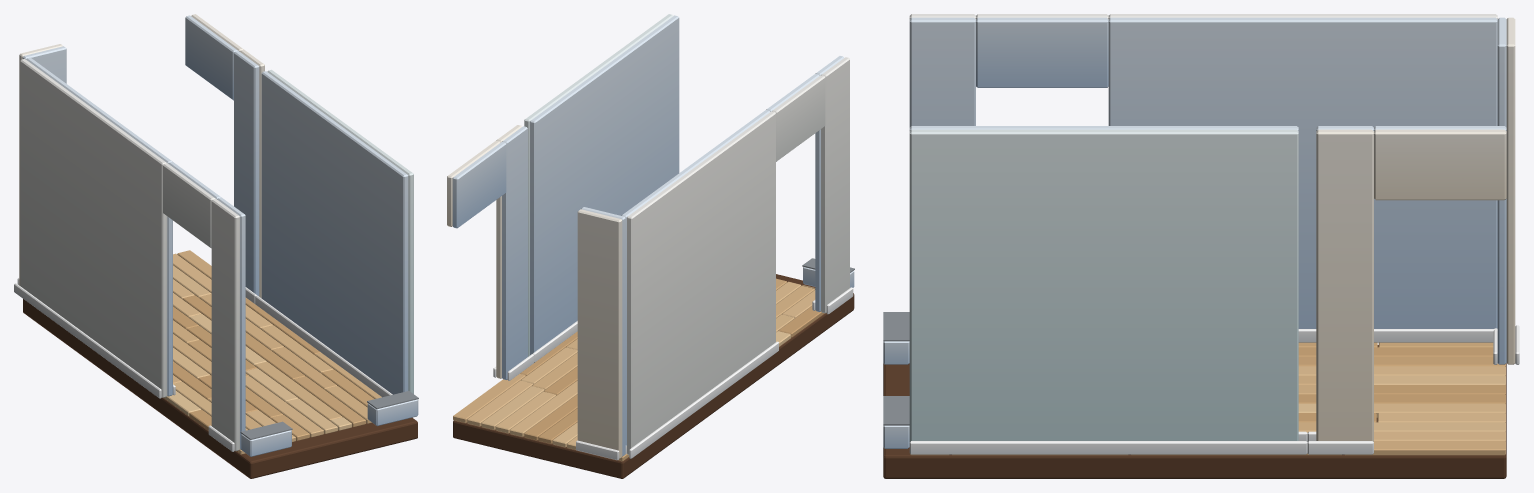
Rendered from house-hall.glb.
3 views of the same model, side by side, from view 1: azimuth 30°, elevation 25°; view 2: azimuth 150°, elevation 25°; view 3: azimuth 270°, elevation 25° (orthographic). The views are drawn at different scales.
Parts seen in each view (by area): view 1: wall-kitchen-hall, wall-hall-bathroom, floor-hall, wall-hall-corridor, lintel-hall-corridor-0, lintel-kitchen-hall-0, wall-hall-landing, wall-living-hall; view 2: wall-kitchen-hall, wall-hall-bathroom, floor-hall, wall-living-hall, wall-hall-corridor, lintel-hall-corridor-0, lintel-kitchen-hall-0, wall-hall-landing; view 3: wall-hall-bathroom, wall-kitchen-hall, floor-hall, wall-hall-corridor, lintel-hall-corridor-0, lintel-kitchen-hall-0, wall-living-hall, wall-hall-landing.
Boxes of the visible parts, left/top/right/bottom form: wall-kitchen-hall: left=14, top=57, right=245, bottom=451; wall-hall-bathroom: left=255, top=69, right=413, bottom=397; floor-hall: left=23, top=250, right=417, bottom=478; wall-hall-corridor: left=234, top=49, right=264, bottom=303; lintel-hall-corridor-0: left=185, top=14, right=243, bottom=100; lintel-kitchen-hall-0: left=163, top=162, right=220, bottom=248; wall-hall-landing: left=240, top=391, right=418, bottom=456; wall-living-hall: left=17, top=44, right=66, bottom=285; wall-kitchen-hall: left=621, top=56, right=853, bottom=458; wall-hall-bathroom: left=524, top=14, right=679, bottom=362; floor-hall: left=453, top=274, right=854, bottom=478; wall-living-hall: left=576, top=207, right=626, bottom=460; wall-hall-corridor: left=493, top=125, right=533, bottom=380; lintel-hall-corridor-0: left=447, top=140, right=506, bottom=228; lintel-kitchen-hall-0: left=766, top=74, right=825, bottom=161; wall-hall-landing: left=802, top=258, right=854, bottom=287; wall-hall-bathroom: left=909, top=126, right=1307, bottom=454; wall-kitchen-hall: left=909, top=14, right=1497, bottom=342; floor-hall: left=883, top=342, right=1506, bottom=478; wall-hall-corridor: left=1307, top=126, right=1373, bottom=454; lintel-hall-corridor-0: left=1374, top=126, right=1506, bottom=200; lintel-kitchen-hall-0: left=976, top=14, right=1108, bottom=87; wall-living-hall: left=1493, top=17, right=1519, bottom=364; wall-hall-landing: left=883, top=312, right=909, bottom=448.
Size of the model in its own units: 3.3 by 4.38 by 7.2.
1 material, 1 textured.
